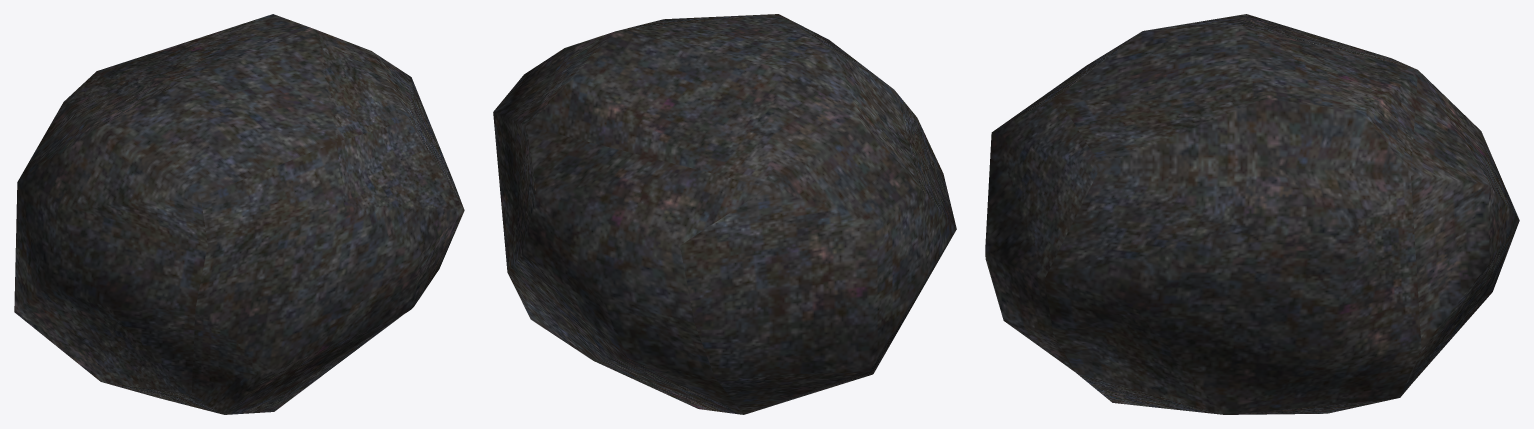
Rendered from asteroid_metal_small_s01_l2.fbx.
The picture shows the model from 3 angles, left to right: view 1: azimuth 30°, elevation 25°; view 2: azimuth 150°, elevation 25°; view 3: azimuth 270°, elevation 25°; orthographic projection. The views are drawn at different scales.
Parts seen in each view (by area): view 1: mesh_node; view 2: mesh_node; view 3: mesh_node.
Part boxes in pixels (x1,y1,x2,y2): mesh_node: [14, 14, 464, 414]; mesh_node: [493, 14, 956, 414]; mesh_node: [985, 14, 1519, 414].
Size of the model in its own units: 24.61 by 19.9 by 25.69.
